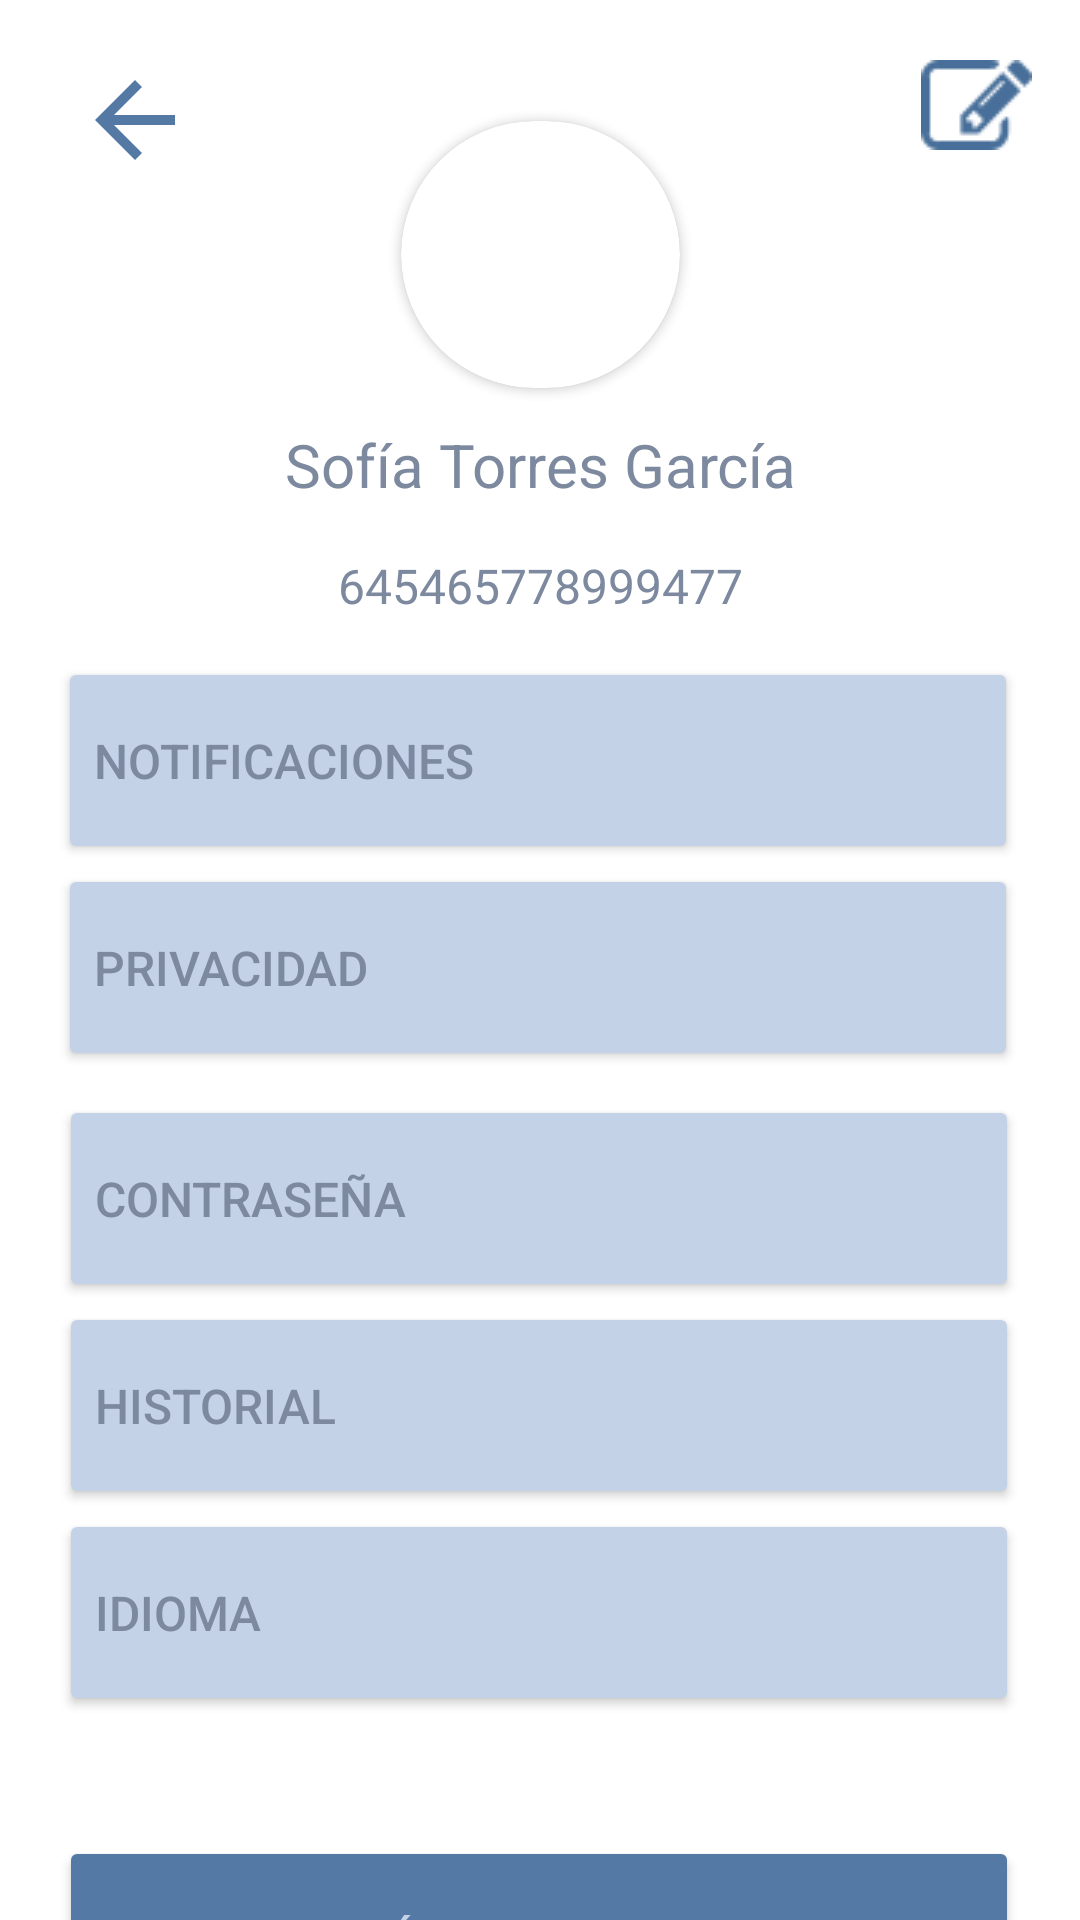

Locate icon controls on the screen. Image size 1080×1920, boxes as bbox=[x1, y1, x2, y2].
editar: bbox=[921, 60, 1032, 150]
